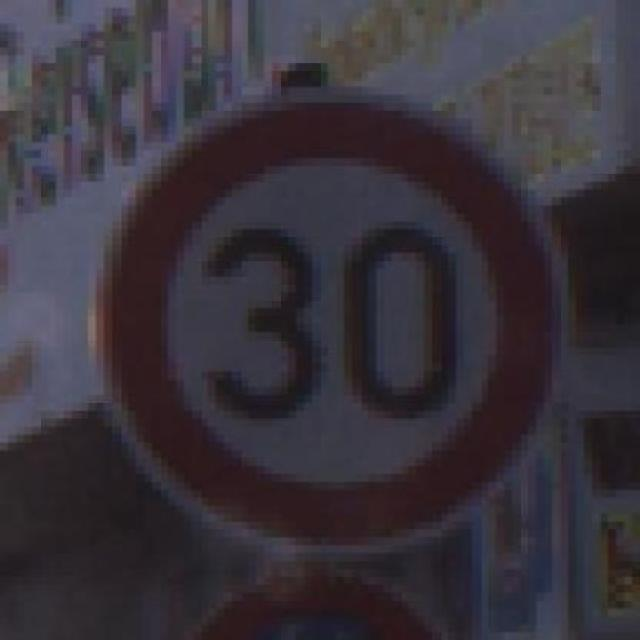Speed Limit 30 KMPh: (72, 70, 600, 562)
